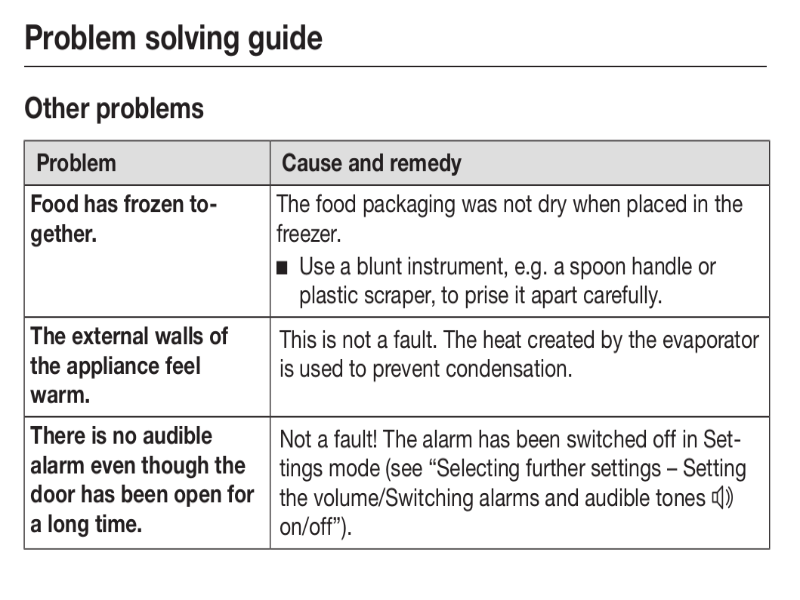border: (15, 131, 785, 558)
cell: (274, 423, 760, 539), (275, 191, 748, 309), (275, 324, 761, 389), (28, 421, 257, 536), (27, 322, 234, 405), (26, 192, 226, 248), (277, 149, 466, 178), (31, 148, 122, 175)
